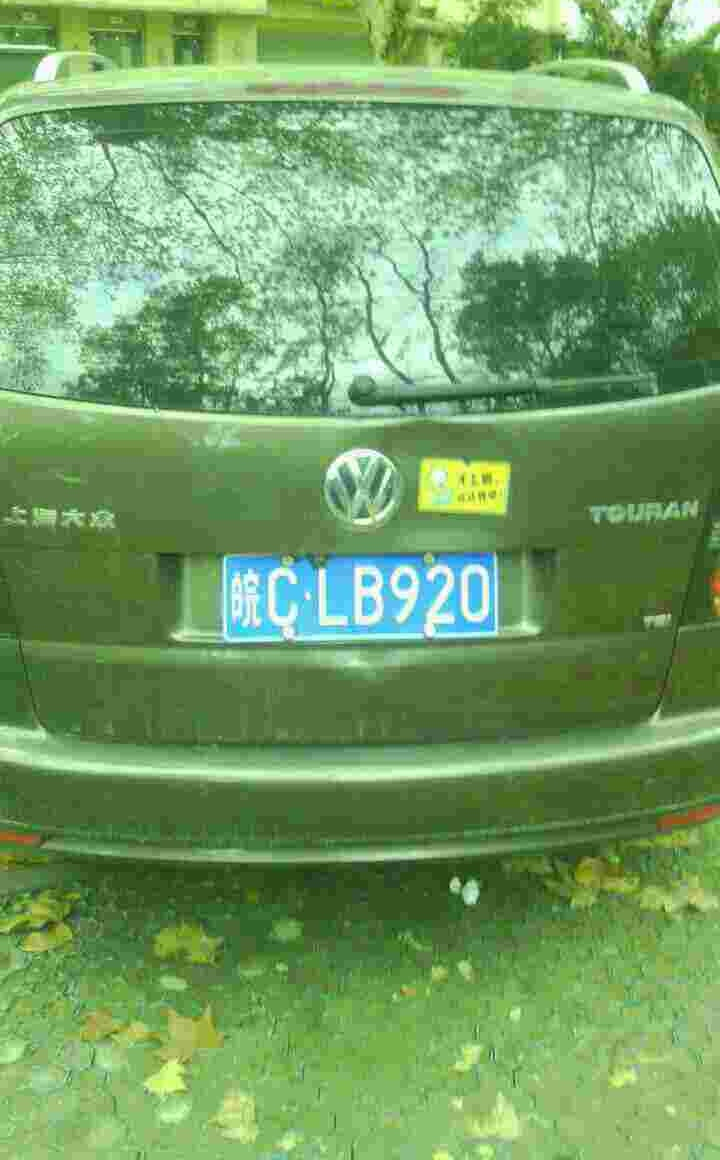license_plate: (216, 552, 492, 646)
